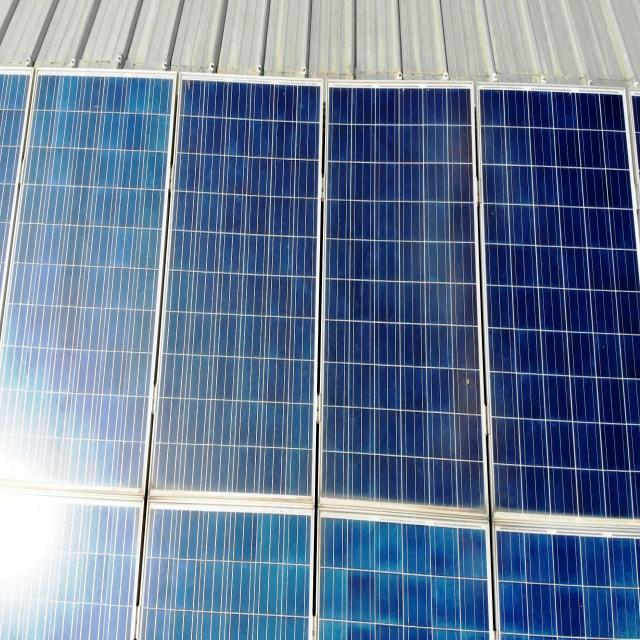no faulty: (320, 80, 490, 520), (152, 73, 324, 503), (3, 71, 175, 501), (477, 85, 640, 525)
